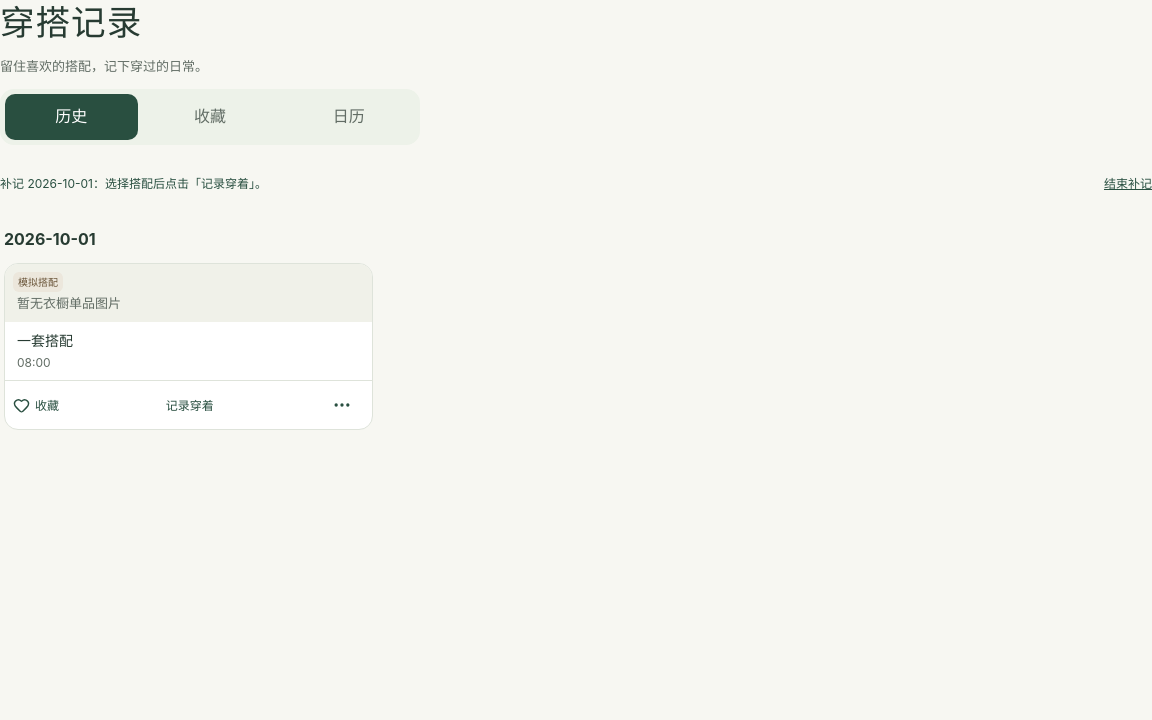
Scenario: backfilling from a selected day carries the date into the wear form
Click the button "记录穿着" at (190, 405), box [63, 383, 316, 427]
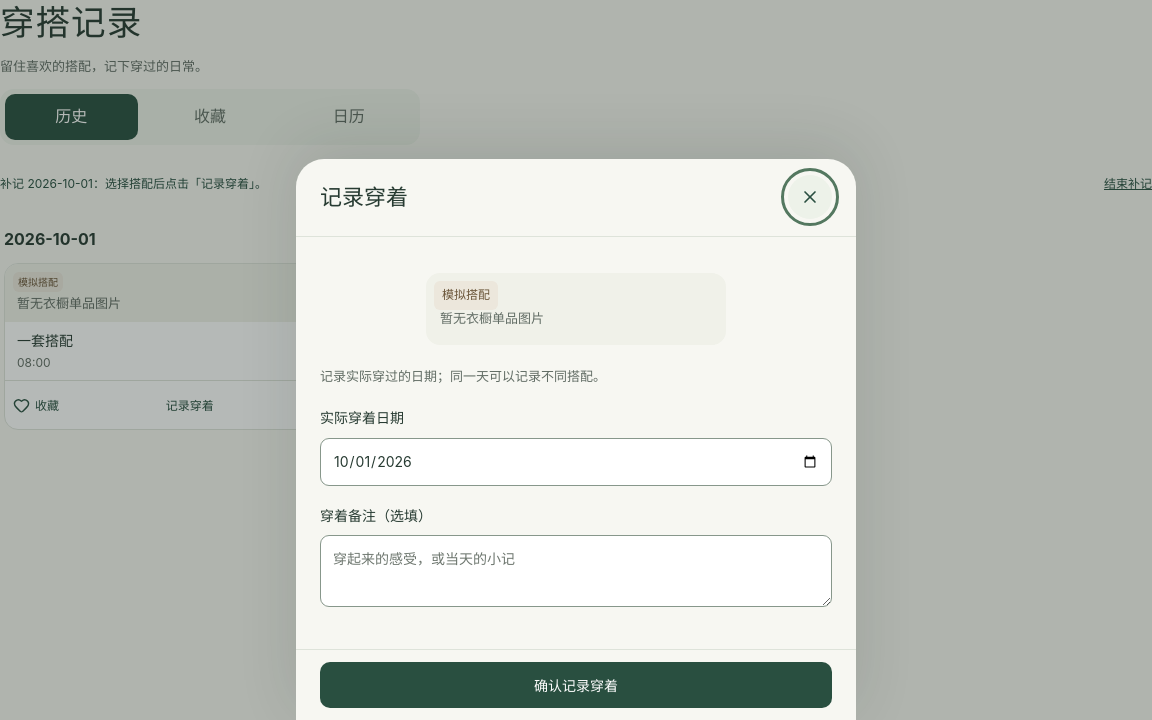
Expected: the date field labelled "实际穿着日期" holds "2026-10-01", [320, 438, 832, 486]
